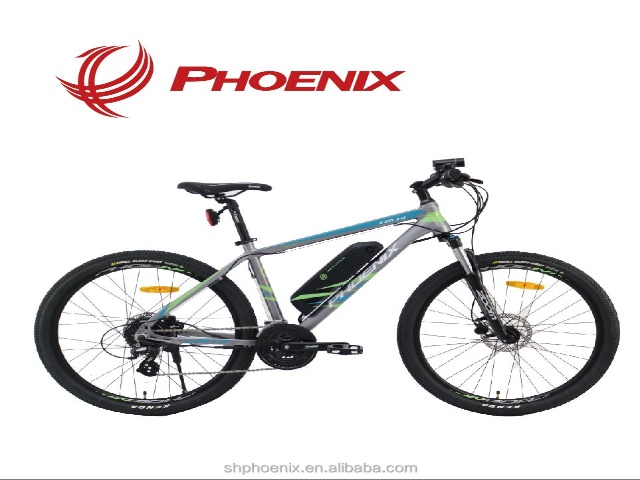bike: (30, 148, 623, 428)
